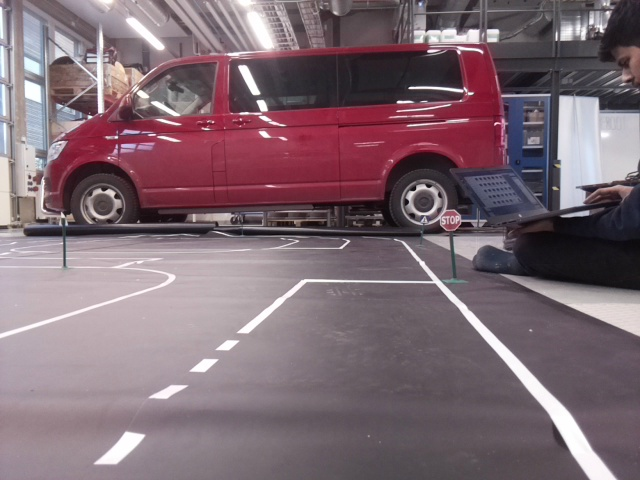Crosswalk: (421, 216, 427, 224)
Stop: (440, 210, 460, 230)
